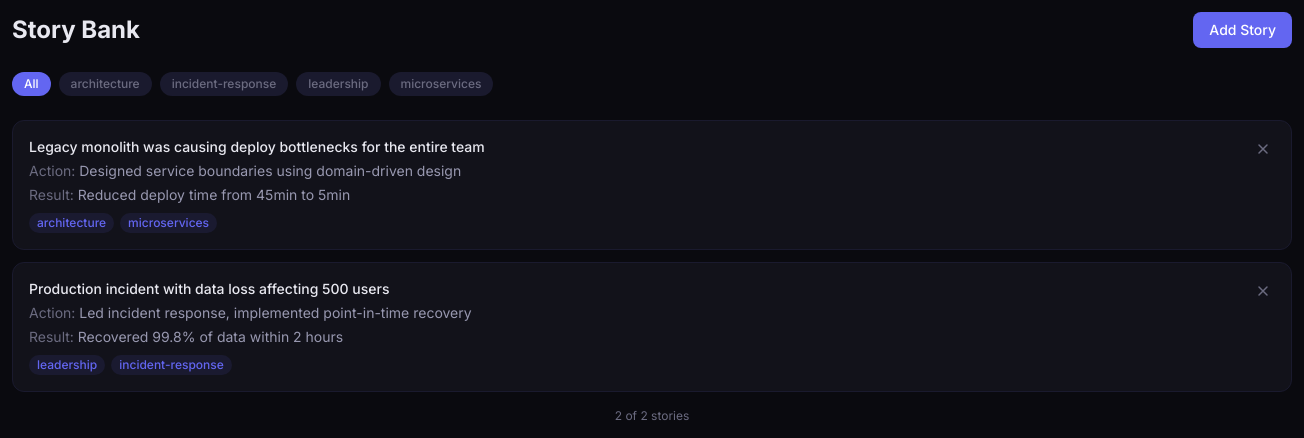
Test case: StoryBank page › shows "All" filter resets tag filter
The image size is (1304, 438).
Expected: the text "Legacy monolith" is shown, left=29, top=138, right=485, bottom=155
Note: Filter by a tag
Click the button "leadership" at (338, 84), box left=296, top=72, right=380, bottom=96
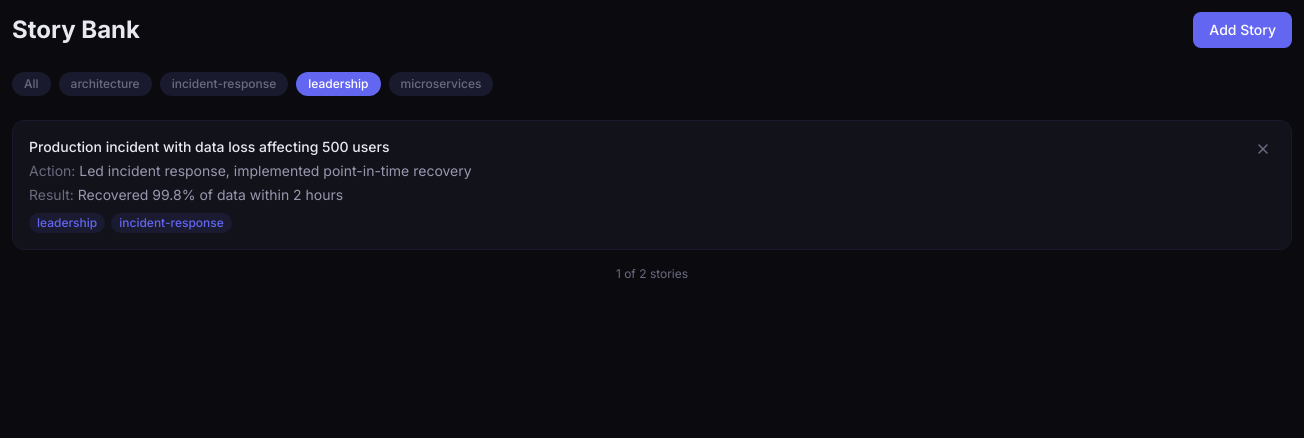
Result: the text "Legacy monolith" is gone
Note: Click All to reset
Click the button "All" at (31, 84), box left=12, top=72, right=51, bottom=96
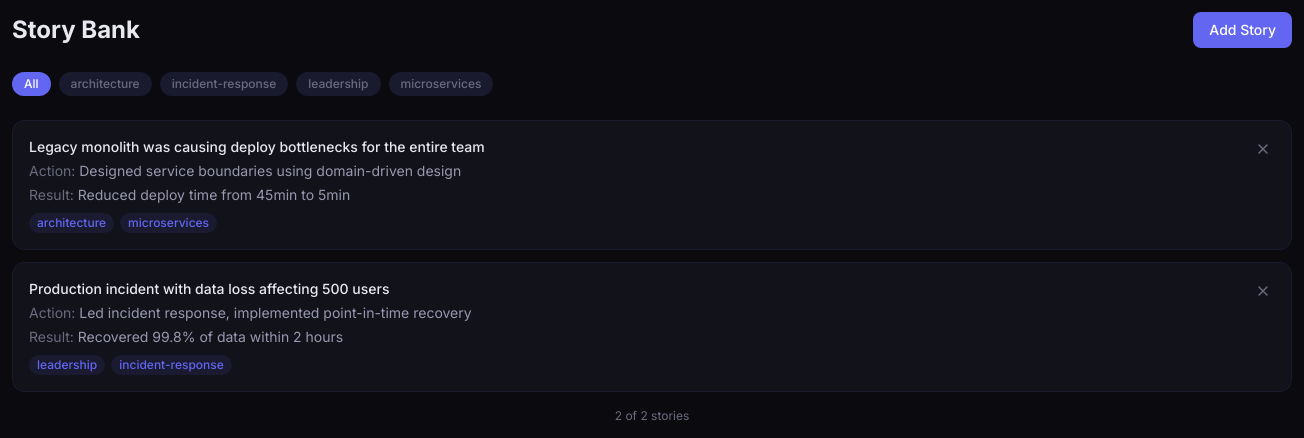
Result: the text "Legacy monolith" is shown at left=29, top=138, right=485, bottom=155
